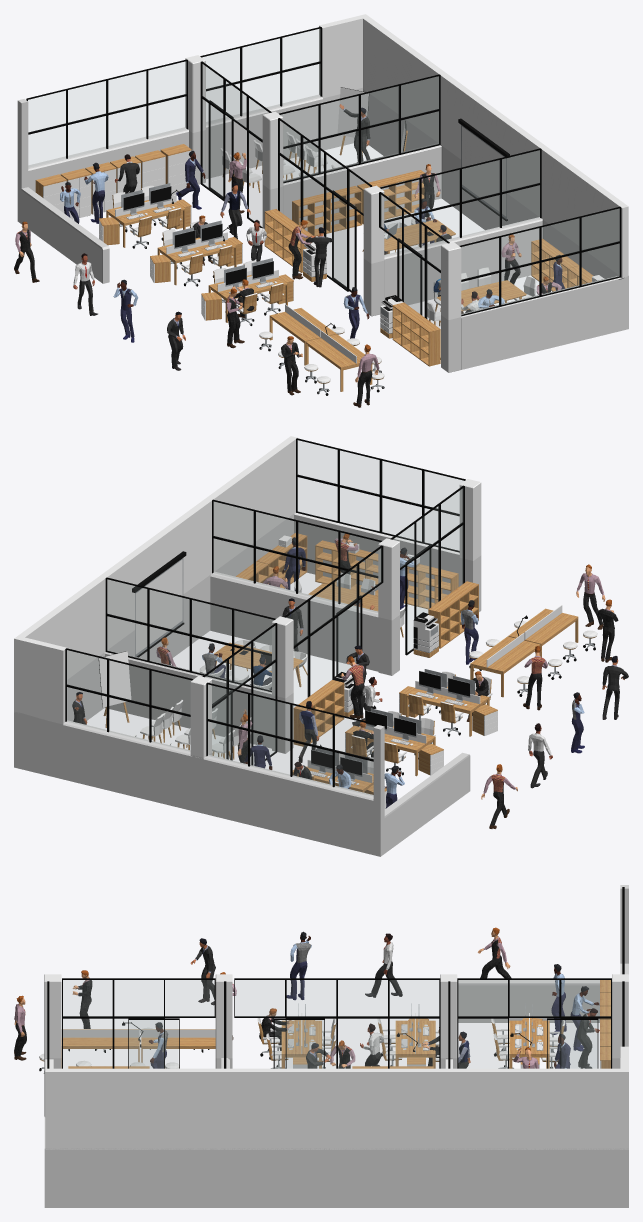
3 renders of one model, top to bottom at view 1: azimuth 30°, elevation 25°; view 2: azimuth 150°, elevation 25°; view 3: azimuth 270°, elevation 25°, orthographic. The views are drawn at different scales.
Visible parts, largest first — view 1: Plane.096_64, Plane.124_57, Plane.215_171, Plane.123_58, Plane.191_32, Plane.193_30, Plane.143_41, Plane.140_44, Plane.190_33, Plane.132_49, Plane.131_50, Plane.189_34 (+64 smaller); view 2: Plane.096_64, Plane.215_171, Plane.190_33, Plane.193_30, Plane.140_44, Plane.143_41, Plane.128_53, Plane.186_37, Plane.132_49, Plane.131_50, Plane.130_51, Plane.127_54 (+51 smaller); view 3: Plane.096_64, Plane.121_60, Plane.123_58, Plane.126_55, Plane.125_56, Plane.122_59, Plane.119_62, Plane.124_57, Plane.163_38, Plane.161_40, Plane.162_39, Plane.138_46 (+24 smaller).
Boxes of the visible parts, x1,y1,x2,y2 form: Plane.096_64: [17, 14, 628, 369]; Plane.124_57: [200, 61, 225, 200]; Plane.215_171: [458, 118, 509, 221]; Plane.123_58: [324, 152, 349, 291]; Plane.191_32: [500, 226, 540, 306]; Plane.193_30: [580, 206, 621, 286]; Plane.143_41: [399, 74, 440, 154]; Plane.140_44: [359, 84, 400, 164]; Plane.190_33: [540, 216, 580, 296]; Plane.132_49: [67, 79, 107, 158]; Plane.131_50: [107, 69, 147, 148]; Plane.189_34: [500, 148, 541, 227]; Plane.096_64: [14, 436, 470, 856]; Plane.215_171: [132, 551, 186, 657]; Plane.190_33: [338, 448, 381, 533]; Plane.193_30: [296, 438, 338, 522]; Plane.140_44: [148, 588, 190, 672]; Plane.143_41: [105, 577, 148, 661]; Plane.128_53: [107, 658, 150, 742]; Plane.186_37: [254, 510, 297, 593]; Plane.132_49: [291, 703, 333, 786]; Plane.131_50: [248, 693, 291, 776]; Plane.130_51: [206, 682, 248, 766]; Plane.127_54: [65, 648, 108, 731]; Plane.096_64: [44, 885, 628, 1207]; Plane.121_60: [388, 978, 440, 1068]; Plane.123_58: [285, 978, 337, 1068]; Plane.126_55: [62, 978, 113, 1068]; Plane.125_56: [457, 978, 508, 1068]; Plane.122_59: [337, 978, 388, 1068]; Plane.119_62: [113, 978, 164, 1068]; Plane.124_57: [560, 978, 611, 1068]; Plane.163_38: [547, 1018, 598, 1068]; Plane.161_40: [273, 1018, 324, 1068]; Plane.162_39: [128, 1018, 179, 1068]; Plane.138_46: [509, 978, 560, 1017].
Bounding box in the file's own units: 12.31 × 3.51 × 14.33.
Materials: 10 (6 with a texture image).
